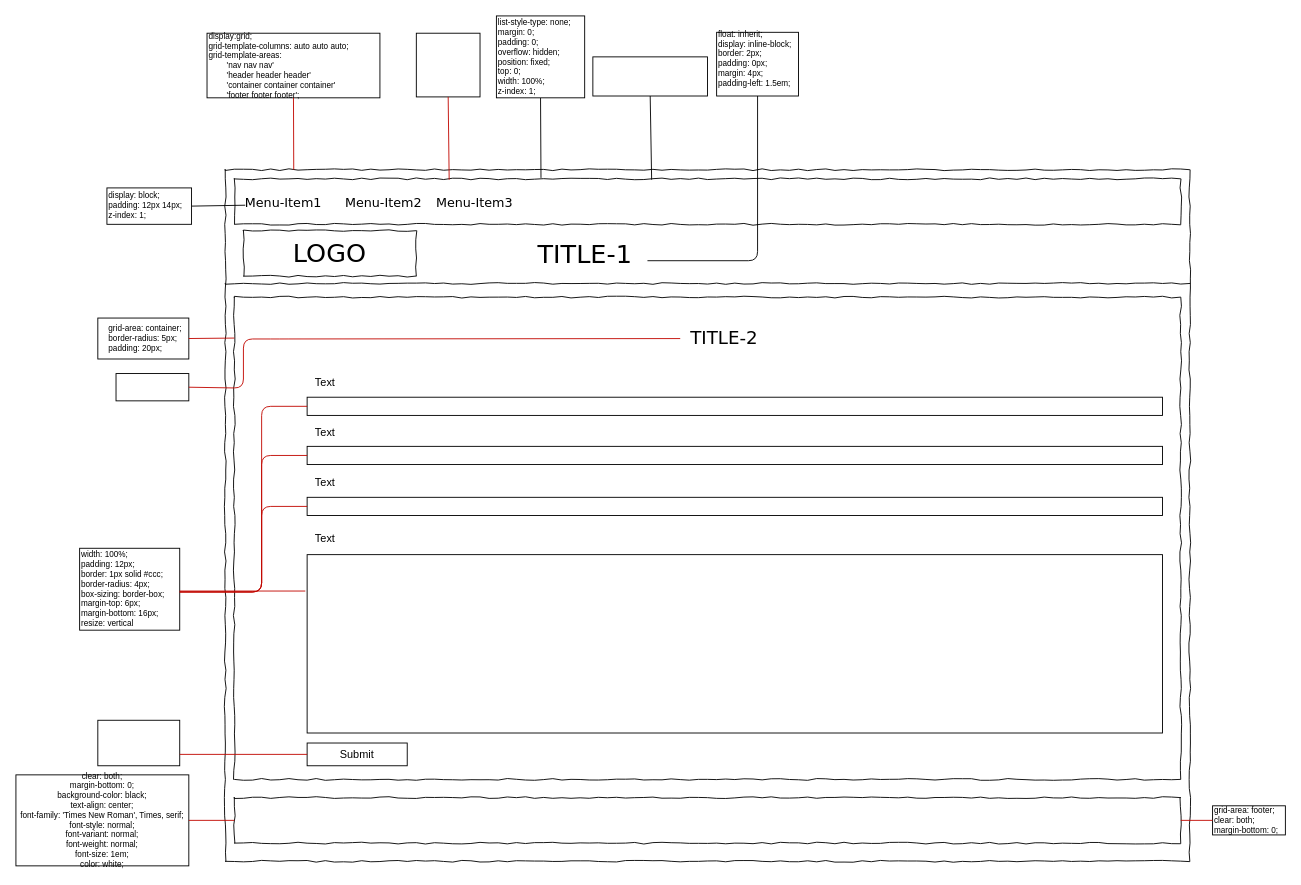
The diagram is 1301 pixels wide and 885 high, and some of its shapes have lost their labels. Here are the shapes that lost their labels. From the top down, the box of each, then its label:
(415, 32, 480, 97): grid-area:nav; width: 100%; border: 0px; padding: 0px; margin: 4px; z-index: 1;
(592, 56, 708, 96): float: left; border-right: 1px solid white; z-index: 1;
(115, 373, 189, 401): padding-left: 2em;
(97, 719, 180, 766): padding: 12px 20px; border: none; border-radius: 4px; cursor: pointer;
(233, 797, 1181, 843): Footer
